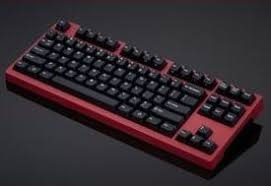keyboard: (4, 10, 266, 179)
